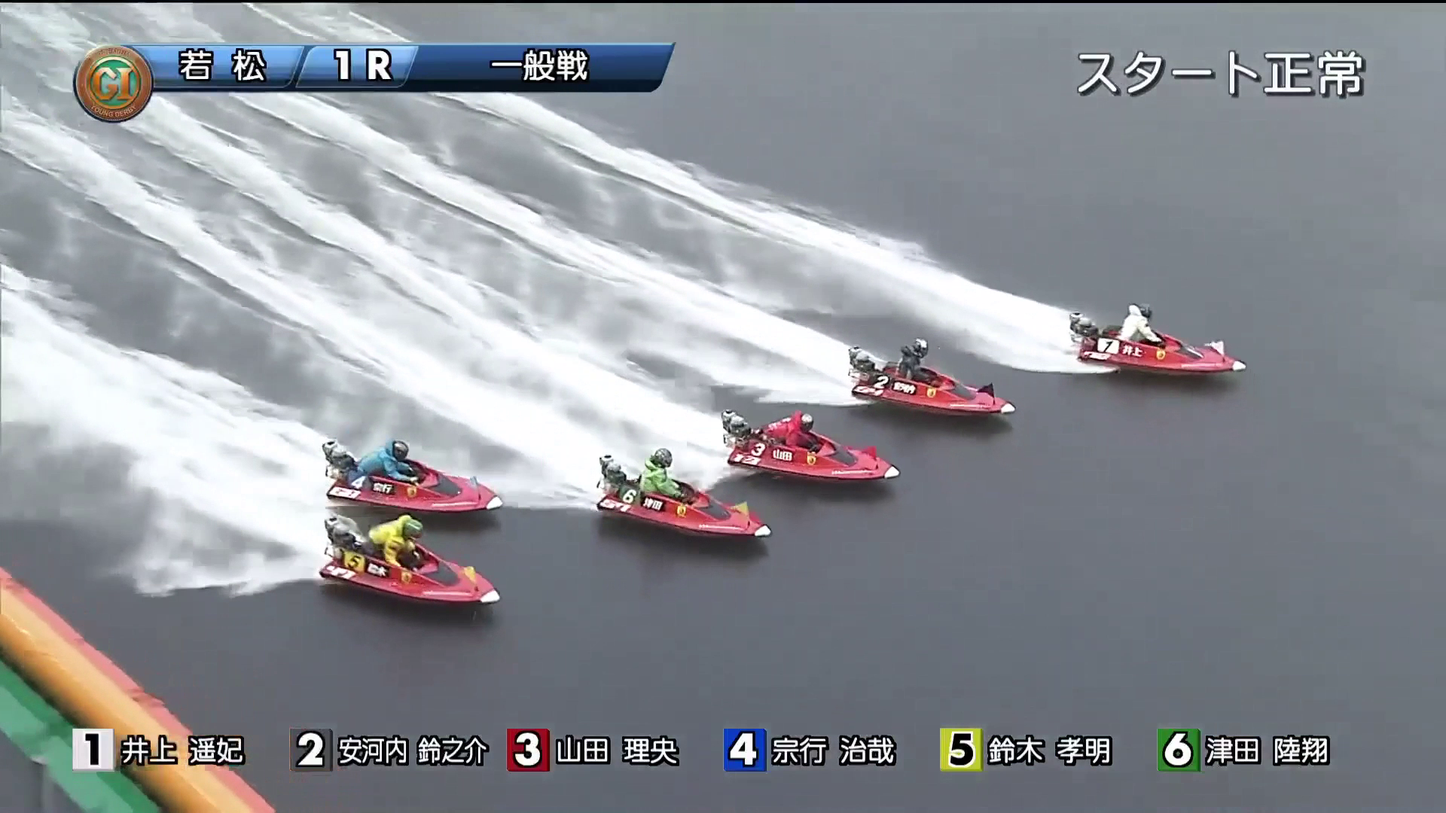１号艇: (1071, 325, 1209, 379)
２号艇: (849, 352, 978, 413)
３号艇: (757, 427, 898, 469)
４号艇: (617, 468, 737, 533)
５号艇: (342, 451, 466, 506)
６号艇: (397, 550, 496, 607)
